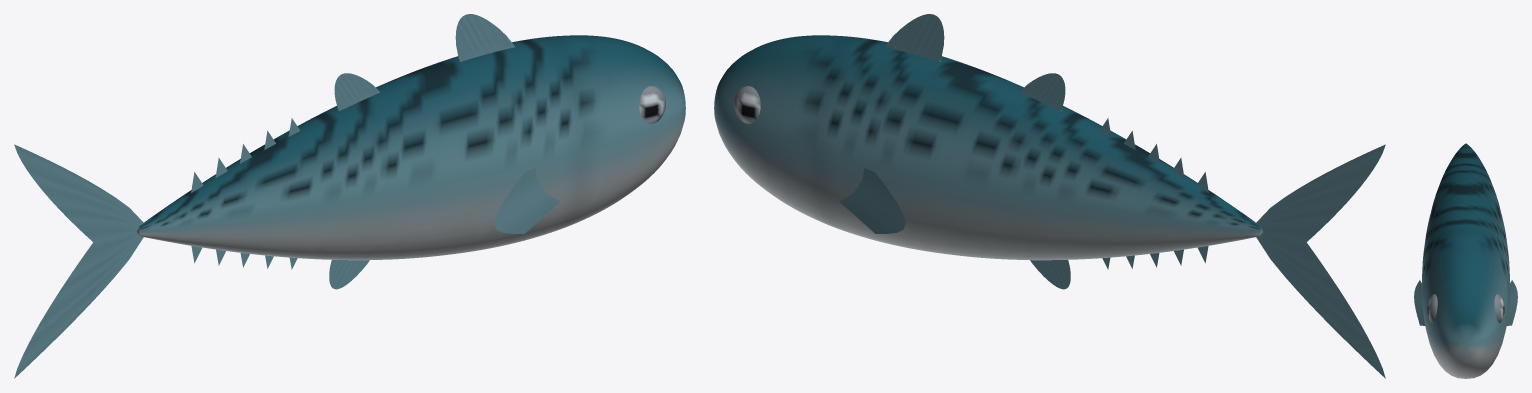
The model's file is uskumru.glb.
3 renders of one model, left to right at view 1: azimuth 30°, elevation 25°; view 2: azimuth 150°, elevation 25°; view 3: azimuth 270°, elevation 25°, orthographic. The views are drawn at different scales.
Parts seen in each view (by area): view 1: uskumru_govde, uskumru_kuyruk, uskumru_gogusL, uskumru_sirt, uskumru_sirt2, uskumru_gozL, uskumru_anal_a; view 2: uskumru_govde, uskumru_kuyruk, uskumru_gogusR, uskumru_sirt, uskumru_sirt2, uskumru_gozR, uskumru_anal_a; view 3: uskumru_govde, uskumru_gogusL, uskumru_gogusR, uskumru_gozL, uskumru_gozR.
Part boxes in pixels (left/top/right/bottom): uskumru_govde: left=137, top=35, right=685, bottom=260; uskumru_kuyruk: left=14, top=144, right=143, bottom=378; uskumru_gogusL: left=494, top=168, right=560, bottom=233; uskumru_sirt: left=455, top=14, right=515, bottom=62; uskumru_sirt2: left=334, top=73, right=380, bottom=111; uskumru_gozL: left=639, top=86, right=665, bottom=123; uskumru_anal_a: left=329, top=260, right=369, bottom=289; uskumru_govde: left=714, top=35, right=1262, bottom=260; uskumru_kuyruk: left=1256, top=144, right=1385, bottom=378; uskumru_gogusR: left=839, top=168, right=905, bottom=233; uskumru_sirt: left=884, top=14, right=944, bottom=62; uskumru_sirt2: left=1019, top=73, right=1065, bottom=111; uskumru_gozR: left=734, top=86, right=760, bottom=123; uskumru_anal_a: left=1030, top=260, right=1070, bottom=289; uskumru_govde: left=1422, top=143, right=1510, bottom=378; uskumru_gogusL: left=1414, top=280, right=1425, bottom=325; uskumru_gogusR: left=1506, top=280, right=1517, bottom=325; uskumru_gozL: left=1427, top=294, right=1437, bottom=323; uskumru_gozR: left=1494, top=294, right=1504, bottom=323.
Size of the model in its own units: 1.01 by 0.3681 by 0.1831.
